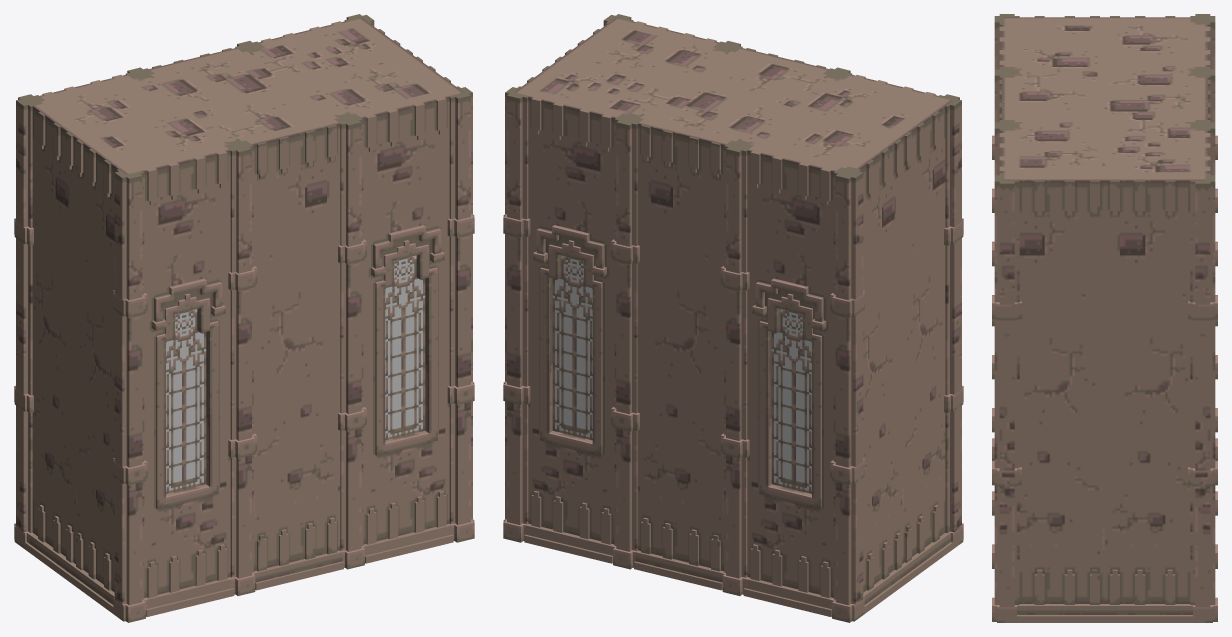
File: Building_Block-0.fbx
The picture shows the model from 3 angles, left to right: view 1: azimuth 30°, elevation 25°; view 2: azimuth 150°, elevation 25°; view 3: azimuth 270°, elevation 25°; orthographic projection.
Parts seen in each view (by area): view 1: Building_Block-0; view 2: Building_Block-0; view 3: Building_Block-0.
Boxes of the visible parts, bbox=[...] form: Building_Block-0: bbox=[14, 14, 474, 622]; Building_Block-0: bbox=[503, 14, 963, 622]; Building_Block-0: bbox=[992, 14, 1217, 622].
Bounding box in the file's own units: 800 × 965 × 450.
